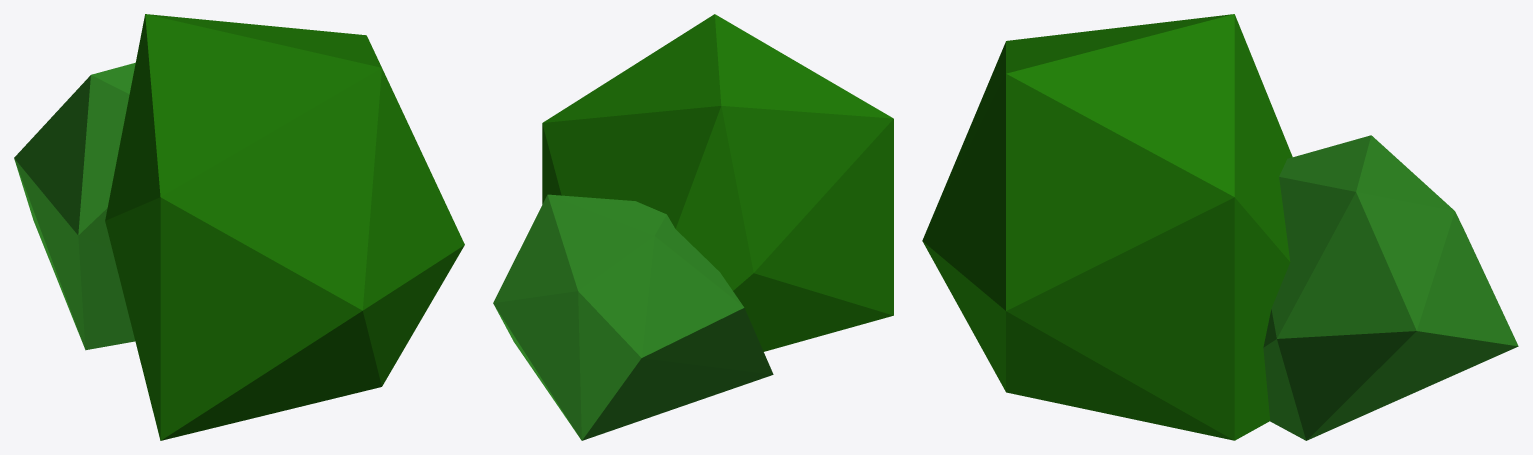
The model's file is bush2.fbx.
3 renders of one model, left to right at view 1: azimuth 30°, elevation 25°; view 2: azimuth 150°, elevation 25°; view 3: azimuth 270°, elevation 25°, orthographic. The views are drawn at different scales.
Parts seen in each view (by area): view 1: Bush2; view 2: Bush2; view 3: Bush2.
Part boxes in pixels (x1=…): Bush2: x1=14, y1=14, x2=464, y2=440; Bush2: x1=493, y1=14, x2=893, y2=440; Bush2: x1=922, y1=14, x2=1518, y2=440.
Bounding box in the file's own units: 8.55 × 8.15 × 13.79.
